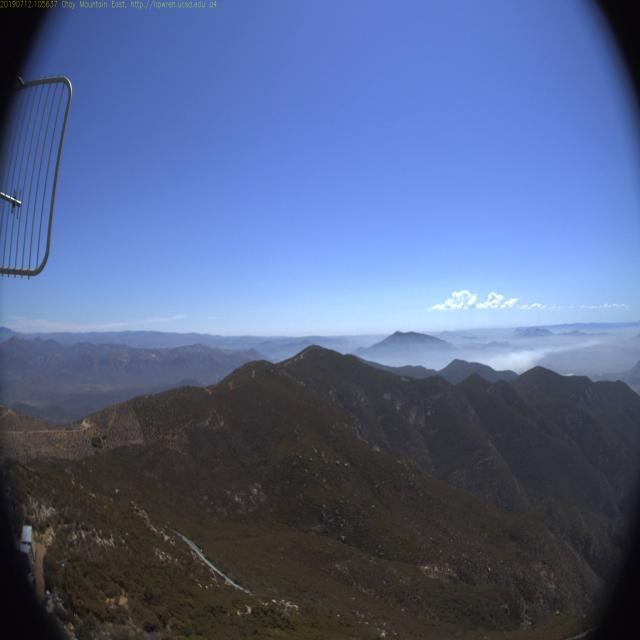smoke: (474, 326, 580, 398)
